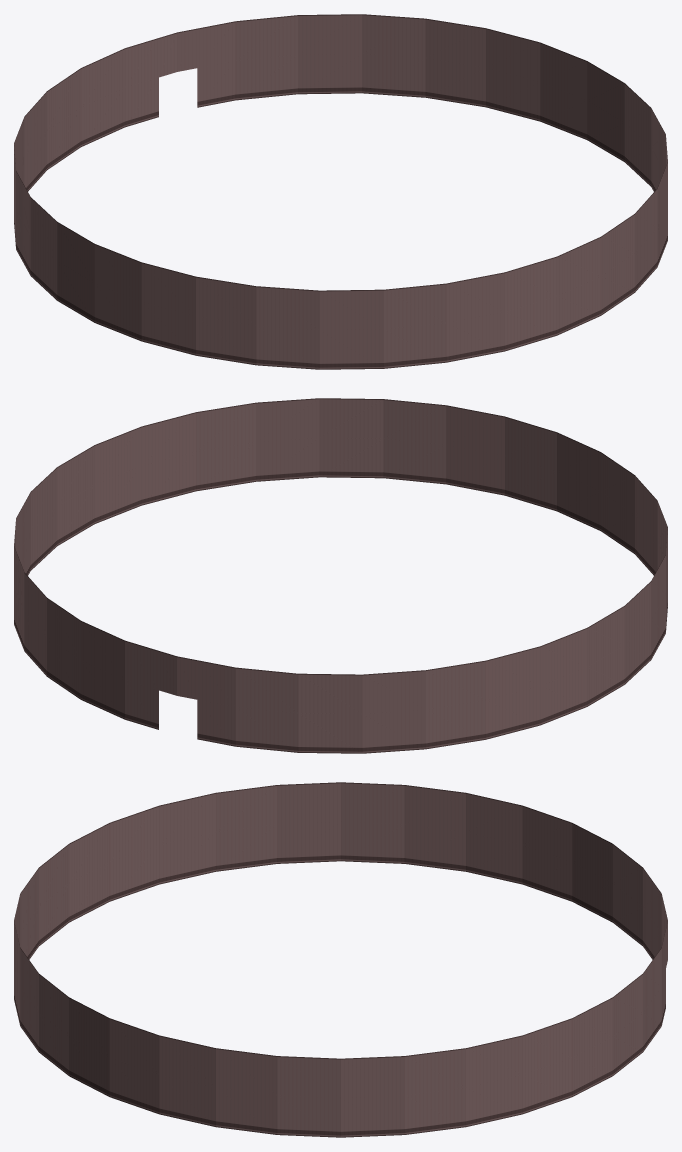
Rendered from wall.obj.
3 views of the same model, one above another, from view 1: azimuth 30°, elevation 25°; view 2: azimuth 150°, elevation 25°; view 3: azimuth 270°, elevation 25° (orthographic).
Parts seen in each view (by area): view 1: 円柱.004; view 2: 円柱.004; view 3: 円柱.004.
Boxes of the visible parts, <box> form: 円柱.004: <box>14,14,667,369</box>; 円柱.004: <box>14,398,667,753</box>; 円柱.004: <box>14,782,667,1137</box>.
Bounding box in the file's own units: 150 × 20 × 150.
Materials: 1 (1 with a texture image).
